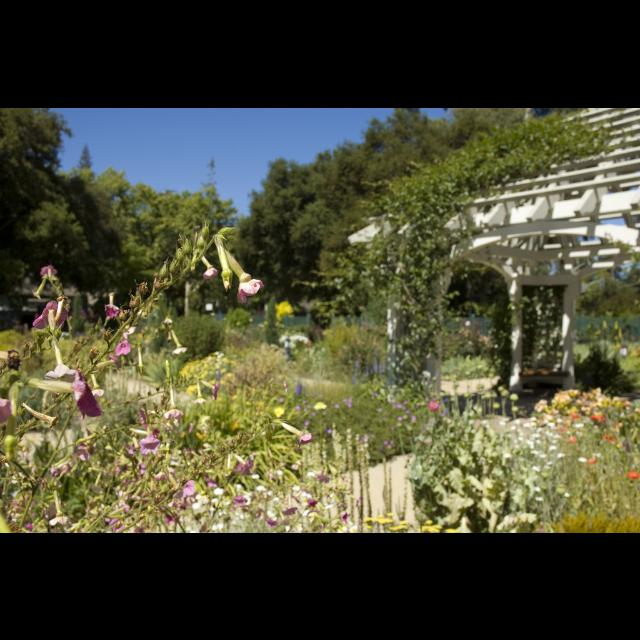Flower: (221, 250, 263, 302), (70, 371, 104, 415), (42, 345, 74, 385), (30, 298, 64, 329), (41, 266, 61, 296), (142, 427, 160, 453)
